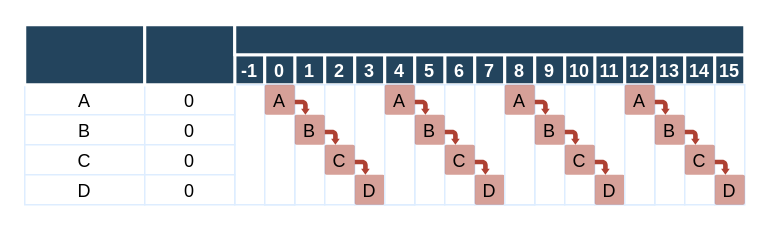
Some shapes in this 770 by 230 pixel diagram are drawn without their labels. The centre of each missing label's shape, as x and y in pixels:
"Priority" goes at pixel 189 54.
"Task" goes at pixel 84 54.
"Ticks" goes at pixel 489 39.
